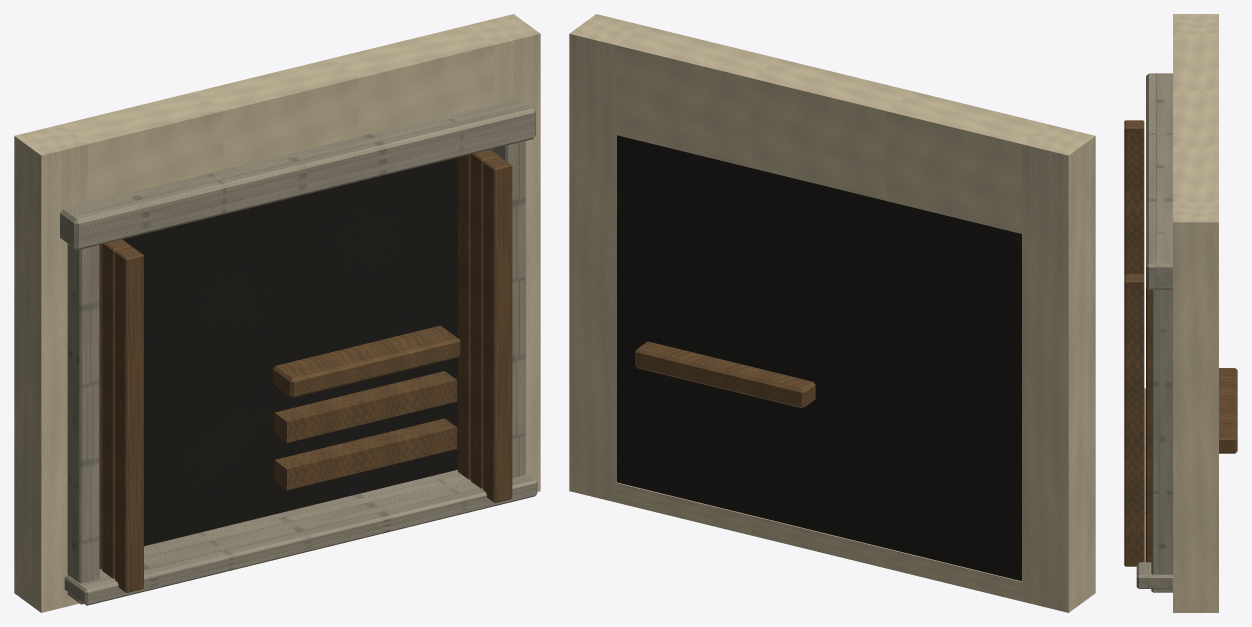
File: module-workshop-bay.glb
The picture shows the model from 3 angles, left to right: view 1: azimuth 30°, elevation 25°; view 2: azimuth 150°, elevation 25°; view 3: azimuth 270°, elevation 25°; orthographic projection. The views are drawn at different scales.
Visible parts, largest first — view 1: module-workshop-bay; view 2: module-workshop-bay; view 3: module-workshop-bay.
Part boxes in pixels (x1=…): module-workshop-bay: x1=14, y1=14, x2=540, y2=612; module-workshop-bay: x1=569, y1=14, x2=1095, y2=612; module-workshop-bay: x1=1124, y1=14, x2=1237, y2=612.
Size of the model in its own units: 3.2 by 2.8 by 0.735.
1 material, 1 textured.
